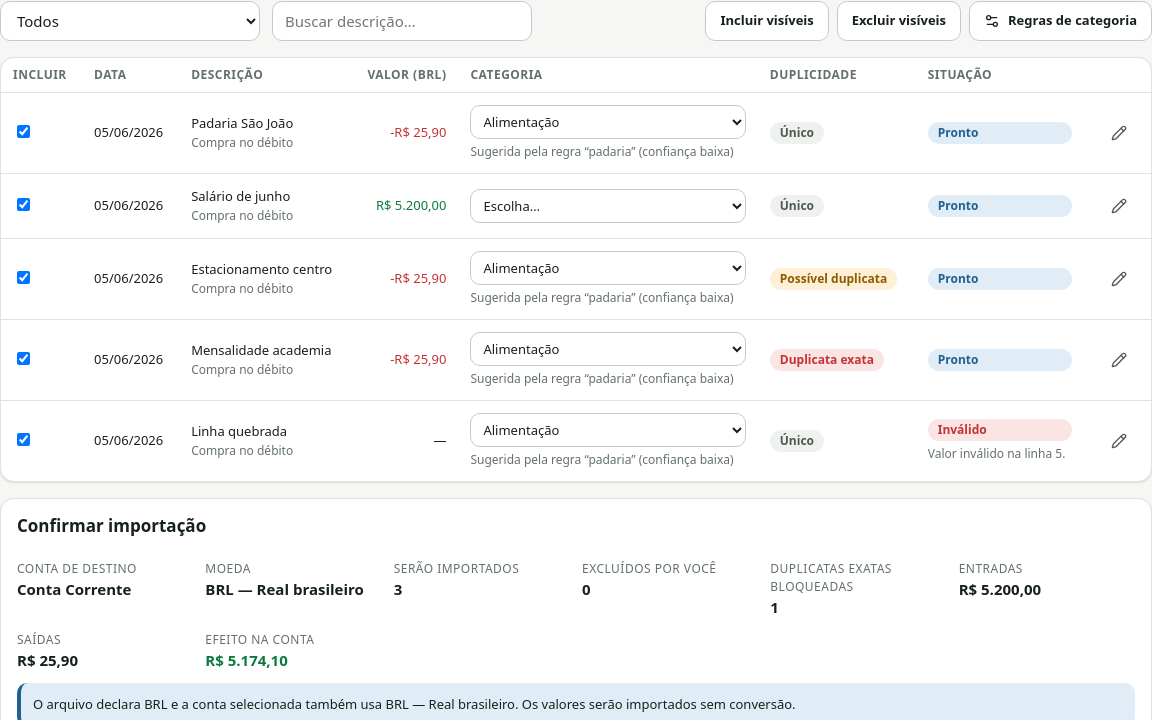
ImportDetail preview › never offers an override for exact duplicates
(page scrolled)
Click the button "Duplicata exata" at (827,360), box [770, 349, 884, 371]
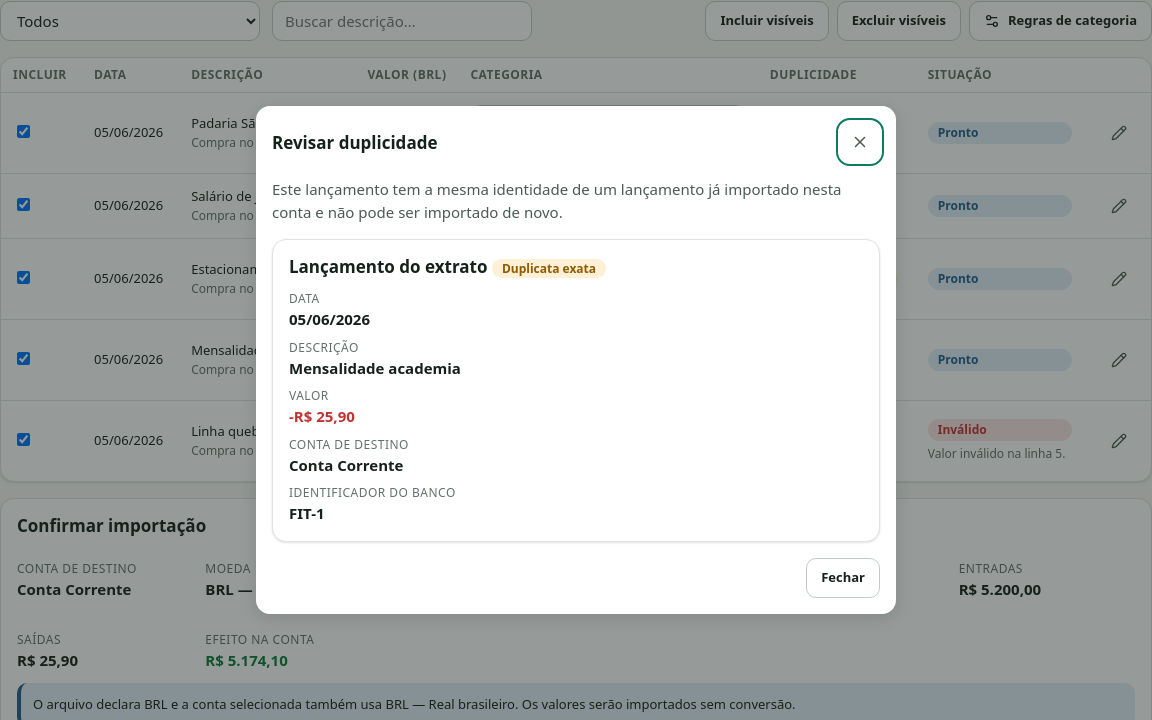
Expected: the button "Importar mesmo assim" is not shown
Result: the text "não pode ser importado de novo" is shown at [272, 179, 842, 222]
